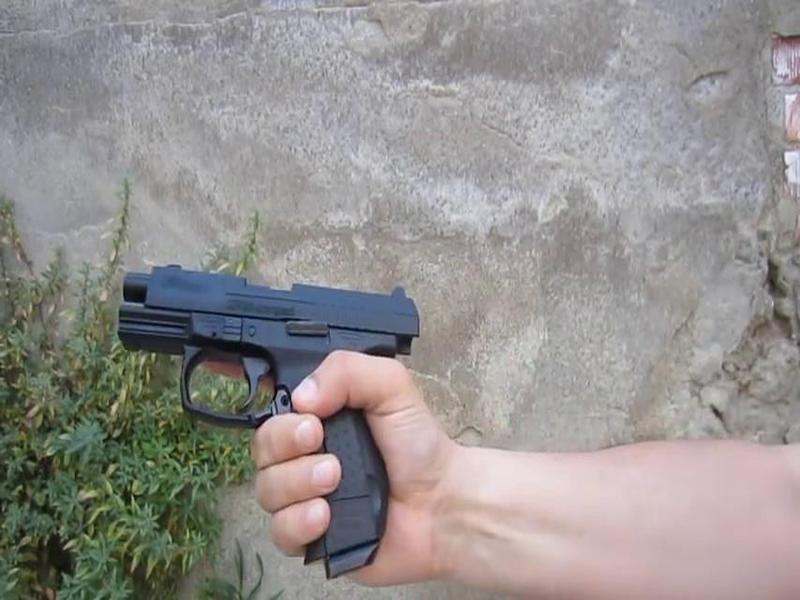Pistola: (107, 213, 430, 593)
